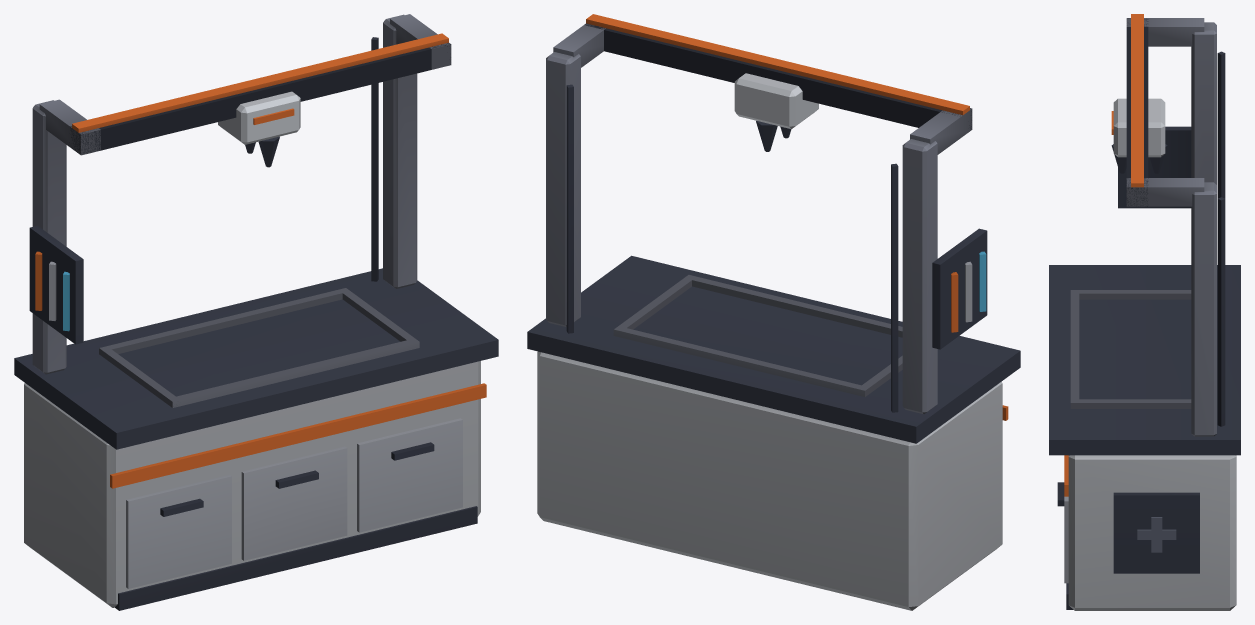
Rendered from workbench.glb.
The picture shows the model from 3 angles, left to right: view 1: azimuth 30°, elevation 25°; view 2: azimuth 150°, elevation 25°; view 3: azimuth 270°, elevation 25°; orthographic projection. The views are drawn at different scales.
Visible parts, largest first — view 1: workbench, carriage; view 2: workbench, carriage; view 3: workbench, carriage, fan.
Part boxes in pixels (bbox=[...]): workbench: bbox=[14, 14, 498, 610]; carriage: bbox=[218, 91, 300, 167]; workbench: bbox=[527, 14, 1020, 610]; carriage: bbox=[734, 73, 818, 151]; workbench: bbox=[1049, 14, 1240, 610]; carriage: bbox=[1111, 98, 1167, 173]; fan: bbox=[1137, 517, 1176, 552].
Size of the model in its own units: 1.99 by 2.2 by 0.89.
